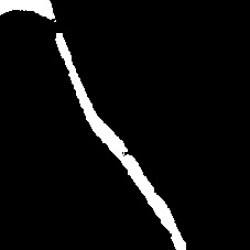crack: (55, 34, 187, 246), (2, 2, 59, 22)
